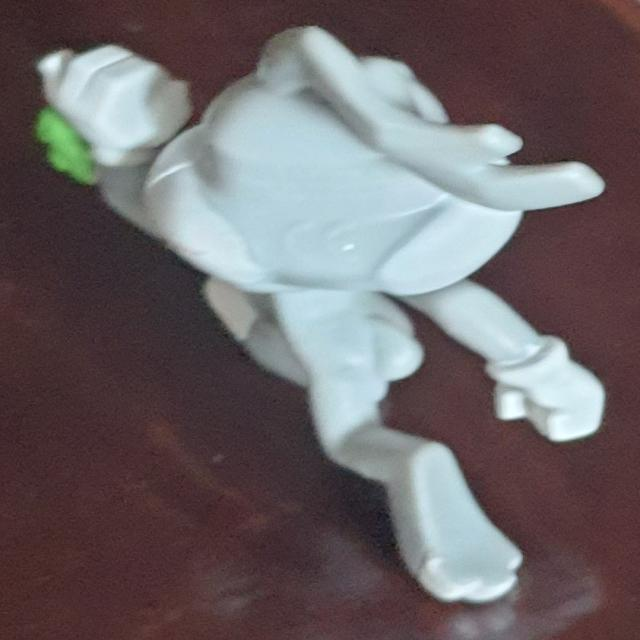Rabbit: (34, 24, 608, 605)
